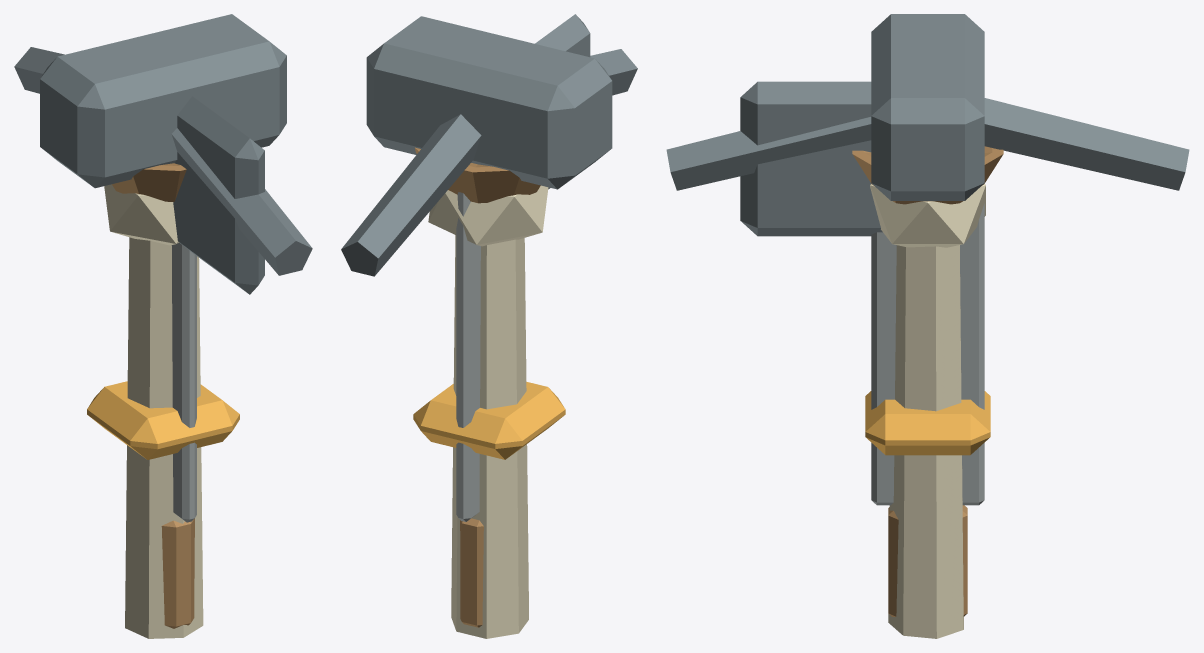
The model's file is Ant_Tools.fbx.
The picture shows the model from 3 angles, left to right: view 1: azimuth 30°, elevation 25°; view 2: azimuth 150°, elevation 25°; view 3: azimuth 270°, elevation 25°; orthographic projection.
Parts seen in each view (by area): view 1: Head, Pestle, Blade, Face, Blade.001, PickA, Grip, Tip, Bowl, PickB; view 2: Head, Pestle, PickB, Blade.001, Face, Tip, Grip, Bowl, Blade, PickA; view 3: Pestle, Head, Blade, Blade.001, PickB, PickA, Face, Tip, Grip, Bowl.
Boxes of the visible parts, left/top/right/bottom form: Head: left=40, top=14, right=286, bottom=188; Pestle: left=125, top=237, right=203, bottom=638; Blade: left=173, top=96, right=264, bottom=294; Face: left=87, top=381, right=239, bottom=459; Blade.001: left=171, top=243, right=196, bottom=522; PickA: left=171, top=128, right=312, bottom=275; Grip: left=161, top=518, right=194, bottom=628; Tip: left=104, top=184, right=179, bottom=245; Bowl: left=112, top=163, right=186, bottom=201; PickB: left=14, top=47, right=64, bottom=93; Head: left=366, top=16, right=612, bottom=189; Pestle: left=451, top=235, right=528, bottom=638; PickB: left=341, top=114, right=481, bottom=276; Blade.001: left=456, top=192, right=480, bottom=521; Face: left=413, top=381, right=565, bottom=459; Tip: left=428, top=185, right=548, bottom=246; Grip: left=460, top=518, right=483, bottom=627; Bowl: left=415, top=147, right=540, bottom=203; Blade: left=535, top=14, right=590, bottom=189; PickA: left=590, top=49, right=637, bottom=95; Pestle: left=888, top=245, right=963, bottom=638; Head: left=871, top=14, right=984, bottom=200; Blade: left=740, top=81, right=882, bottom=236; Blade.001: left=871, top=203, right=984, bottom=505; PickB: left=984, top=98, right=1189, bottom=190; PickA: left=666, top=117, right=871, bottom=190; Face: left=865, top=391, right=990, bottom=455; Tip: left=870, top=184, right=985, bottom=247; Grip: left=888, top=505, right=967, bottom=616; Bowl: left=852, top=146, right=1003, bottom=204.
Bounding box in the file's own units: 4.2 × 11.1 × 9.2.
